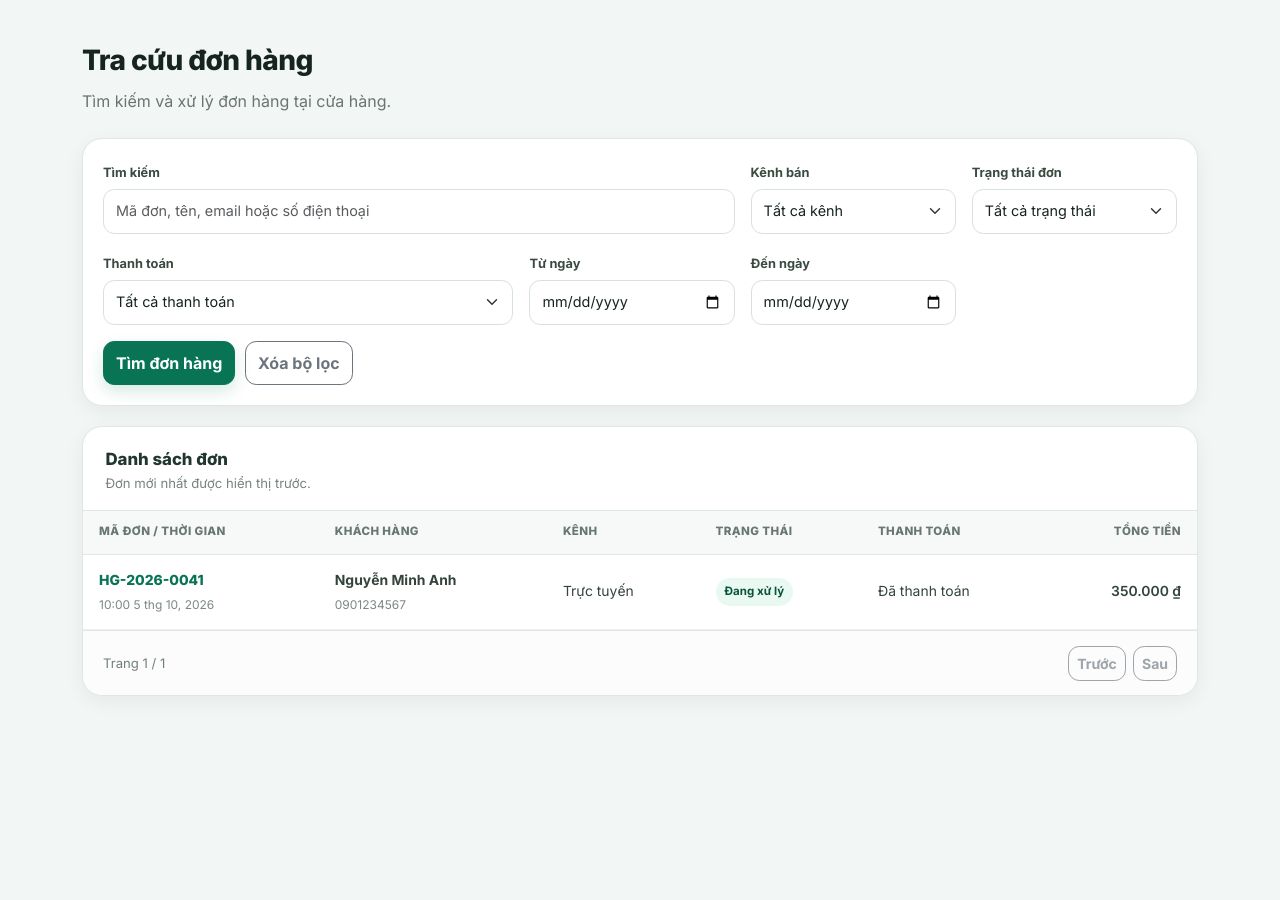
StaffOrdersPage › loads the order details when an order number is selected
What coordinates should you click on to do the following:
click the button with aria-label "Xem chi tiết đơn HG-2026-0041"
I would click on:
 (151, 581)
Its box is [99, 570, 204, 592].
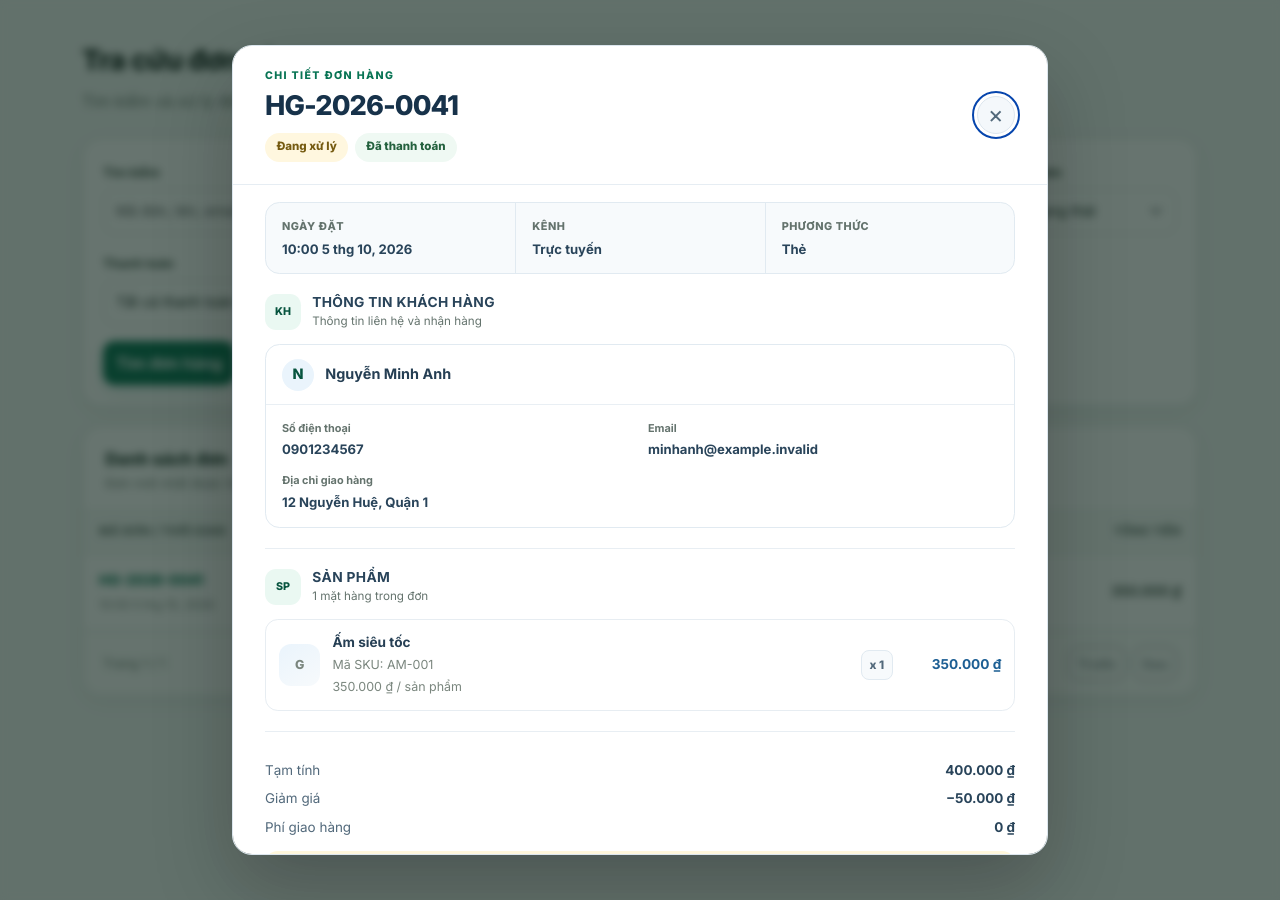
expect the dialog "HG-2026-0041" is shown: met, box [232, 45, 1048, 855]
expect the text "Đang xử lý" is shown: met, box [265, 133, 348, 162]
expect the text "Đã thanh toán" is shown: met, box [355, 133, 457, 162]
